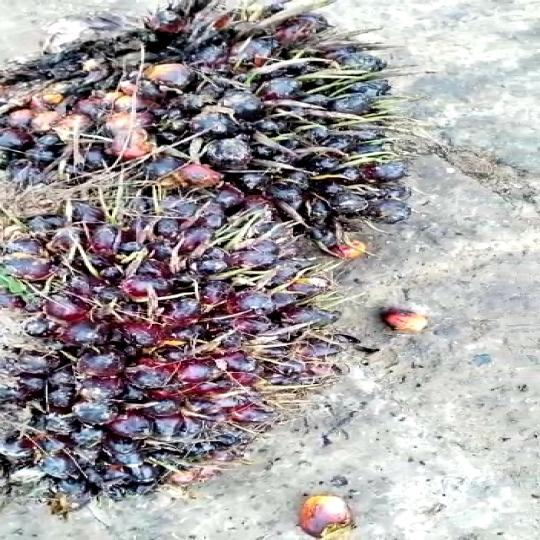kurang masak: (0, 2, 414, 246), (0, 181, 322, 483)
